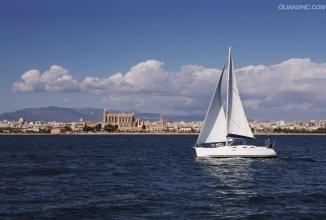fanchuan: (190, 49, 284, 159)
